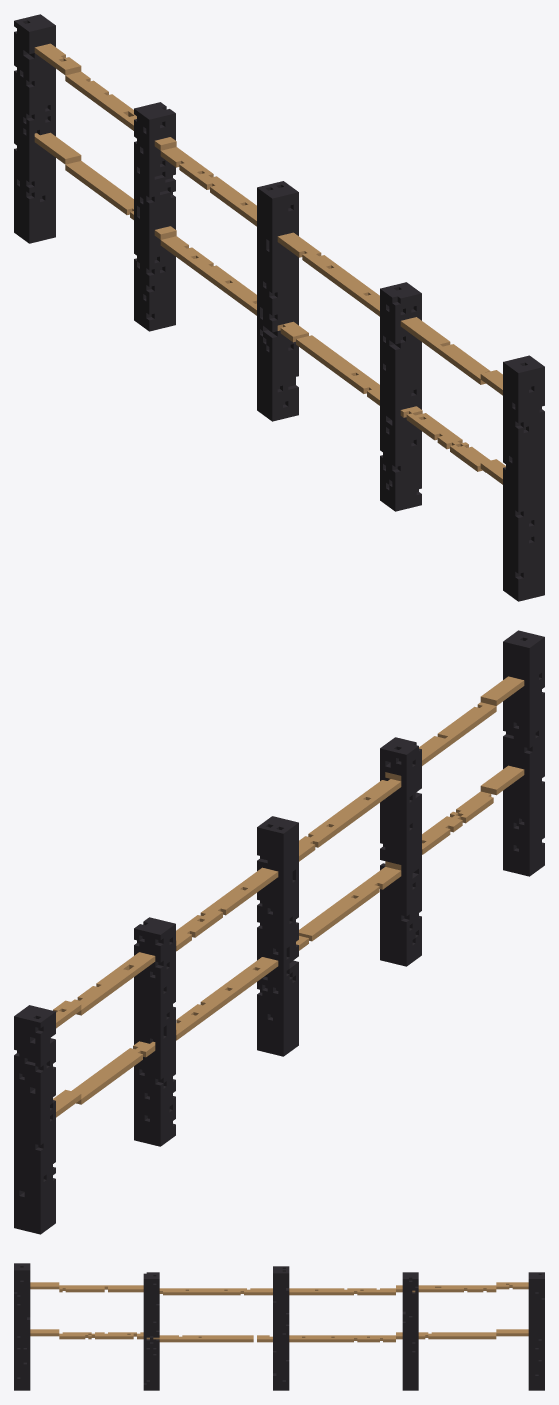
The model's file is fence_island_1.obj.
The picture shows the model from 3 angles, top to bottom: view 1: azimuth 30°, elevation 25°; view 2: azimuth 150°, elevation 25°; view 3: azimuth 270°, elevation 25°; orthographic projection. The views are drawn at different scales.
Bounding box in the file's own units: 0.125 × 1.02 × 4.1.
1 material, 1 textured.
